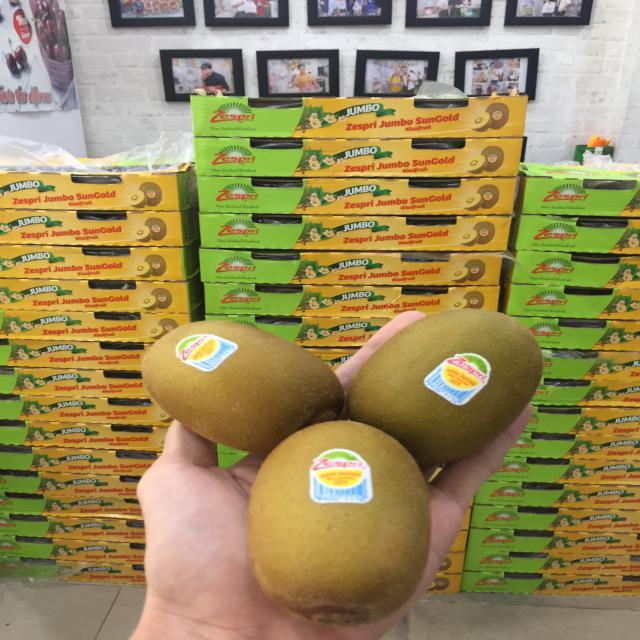kiwi: (243, 433, 436, 631), (359, 287, 545, 457), (136, 311, 345, 443)
